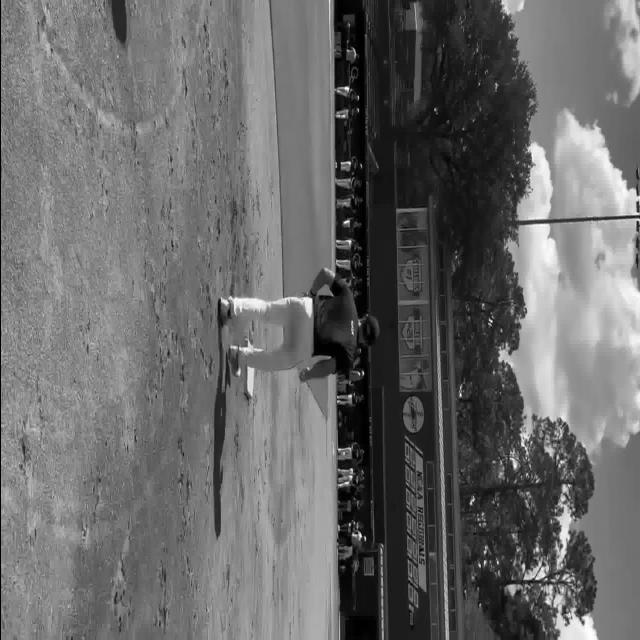base: (244, 367, 254, 400), (245, 338, 250, 347)
shoe: (225, 347, 240, 385), (216, 299, 231, 327)
